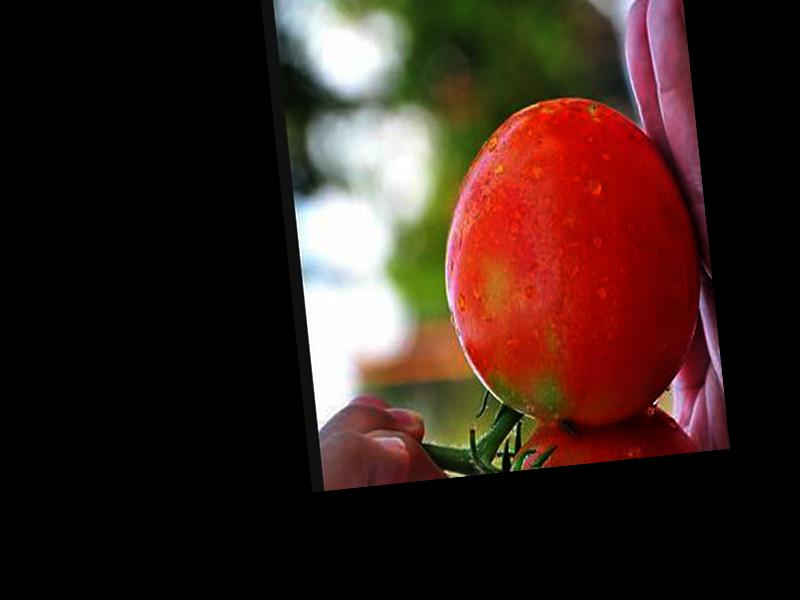Tomato: (427, 87, 712, 437)
